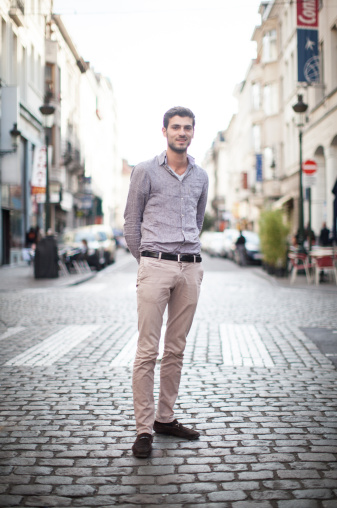em pe: (115, 103, 229, 442)
